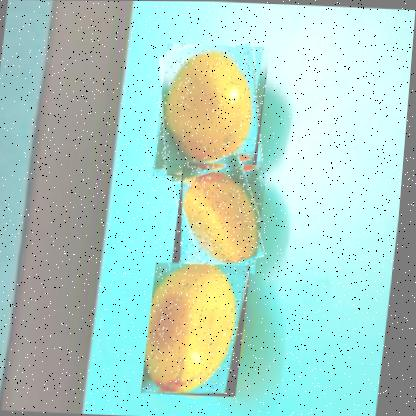orange_rotten: (153, 43, 271, 184), (146, 262, 256, 398), (174, 165, 270, 275)
